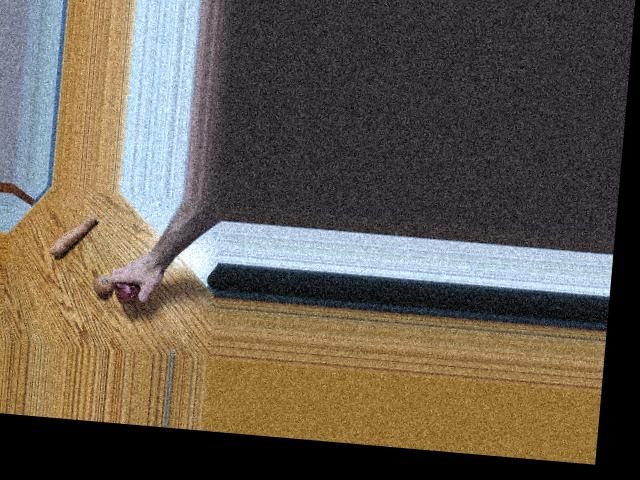onion: (91, 272, 116, 296)
